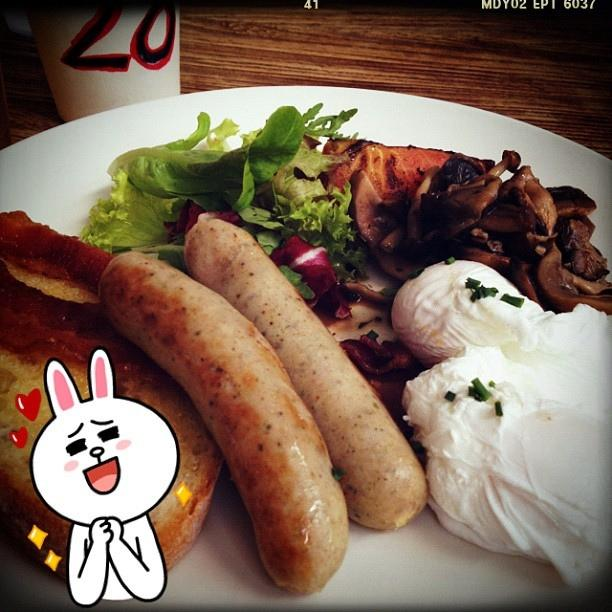lettuce: (107, 139, 254, 214), (272, 178, 372, 284), (79, 168, 186, 255), (274, 148, 348, 211), (248, 106, 304, 184)
